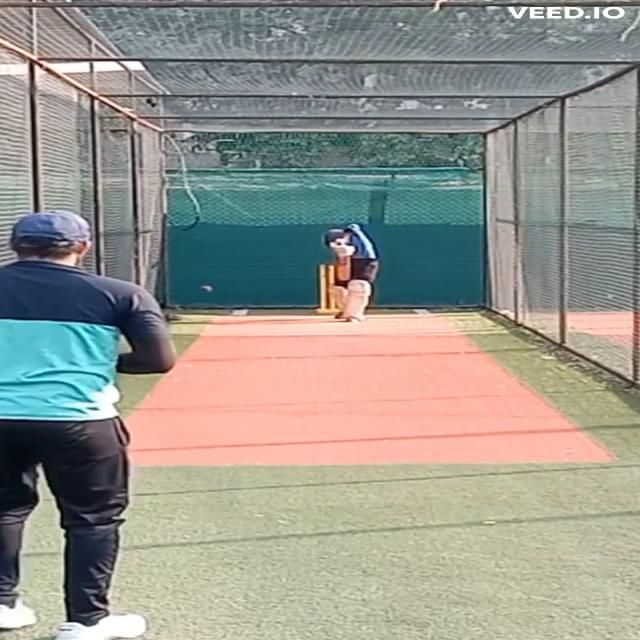ball: (198, 284, 214, 294)
stump: (313, 264, 341, 314)
